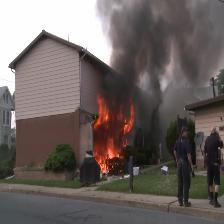fire: (91, 90, 141, 181)
smoke: (90, 0, 224, 113)
